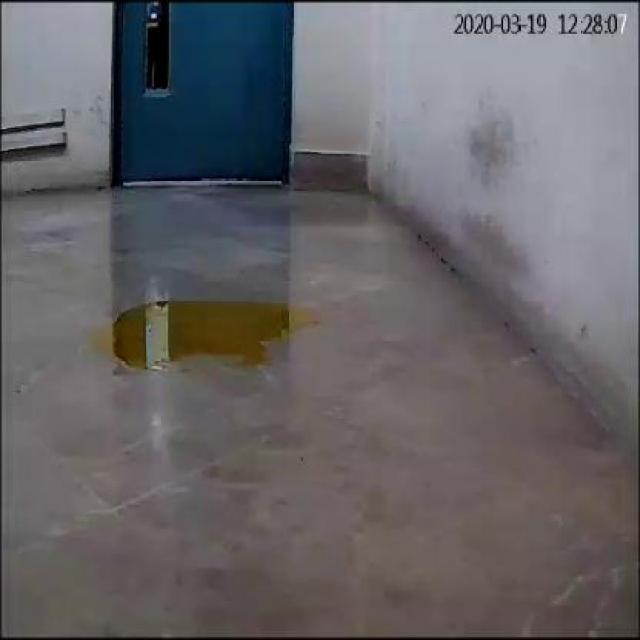spill: (84, 296, 326, 369)
